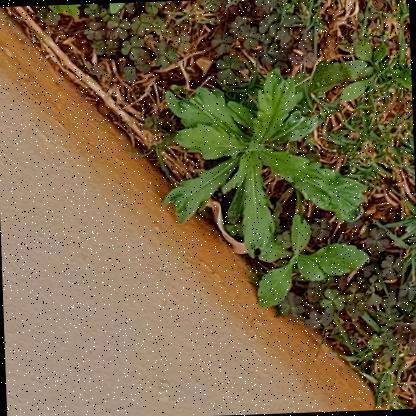Weeds: (158, 69, 367, 261), (243, 210, 371, 309), (341, 35, 411, 101)
